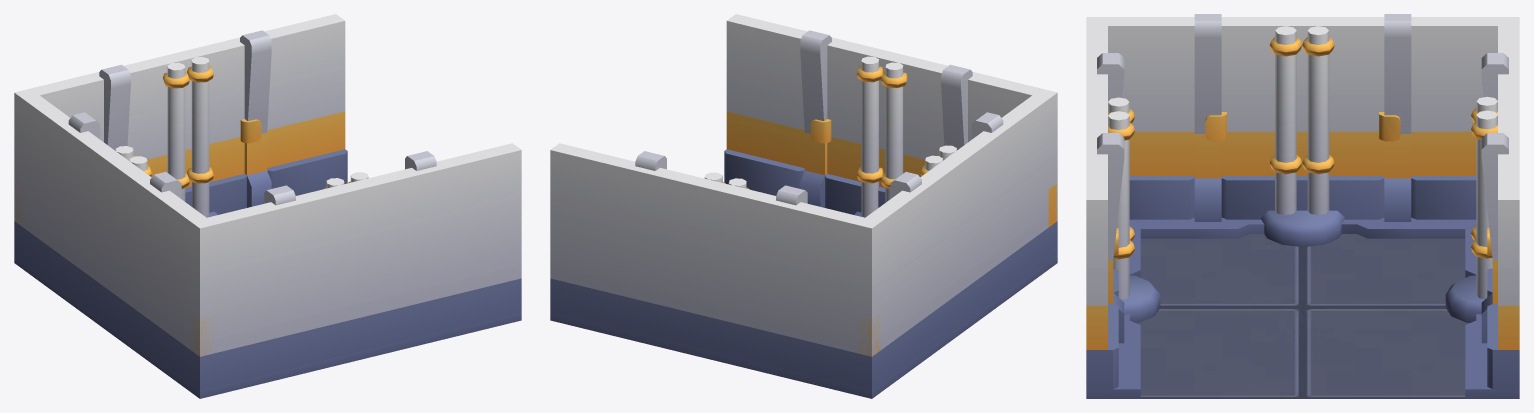
Rendered from kenney-modular-space-corridor-wide-end.glb.
The picture shows the model from 3 angles, left to right: view 1: azimuth 30°, elevation 25°; view 2: azimuth 150°, elevation 25°; view 3: azimuth 270°, elevation 25°; orthographic projection. The views are drawn at different scales.
Parts seen in each view (by area): view 1: corridor-wide-end; view 2: corridor-wide-end; view 3: corridor-wide-end.
Boxes of the visible parts, x1,y1,x2,y2 form: corridor-wide-end: [14, 14, 521, 398]; corridor-wide-end: [550, 14, 1057, 398]; corridor-wide-end: [1086, 14, 1519, 398].
Bounding box in the file's own units: 8 × 4.25 × 8.
Materials: 1 (1 with a texture image).
